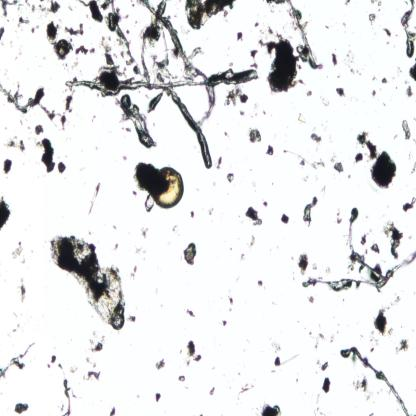Background material: (53, 229, 125, 337), (260, 34, 306, 96), (355, 130, 398, 188), (185, 0, 236, 29), (132, 160, 167, 197), (386, 218, 404, 258), (38, 137, 56, 175), (82, 0, 106, 23), (98, 38, 118, 65), (351, 377, 375, 398), (228, 83, 249, 107), (302, 195, 318, 226), (45, 20, 64, 46), (373, 306, 388, 337), (6, 134, 28, 155), (54, 37, 73, 61), (343, 49, 359, 76), (10, 398, 32, 416), (0, 194, 11, 230), (273, 353, 300, 367), (41, 101, 56, 126), (182, 243, 198, 266), (296, 251, 310, 276), (88, 333, 106, 352), (88, 182, 99, 212), (62, 91, 75, 116), (12, 237, 26, 260), (246, 205, 262, 225), (314, 356, 330, 375), (0, 0, 18, 16), (313, 330, 327, 350), (260, 403, 281, 416), (236, 381, 252, 398), (66, 21, 84, 35), (402, 194, 416, 212), (248, 127, 261, 146), (143, 194, 156, 213), (333, 160, 348, 176), (402, 115, 412, 139), (313, 157, 327, 173), (321, 376, 333, 394), (394, 338, 408, 353), (84, 371, 102, 382), (309, 128, 323, 142), (49, 0, 63, 14), (19, 276, 26, 303), (186, 339, 196, 357), (2, 161, 14, 176), (265, 141, 275, 158), (248, 47, 260, 61), (388, 294, 399, 309), (371, 241, 382, 255), (360, 232, 370, 247), (57, 160, 67, 175), (40, 5, 52, 17), (18, 15, 30, 27), (334, 86, 347, 97), (369, 331, 379, 345), (354, 152, 364, 166), (255, 277, 266, 289), (185, 308, 196, 320), (156, 357, 166, 370), (216, 153, 224, 169), (154, 388, 162, 404), (409, 63, 416, 81), (298, 111, 307, 125), (107, 405, 118, 416), (330, 51, 338, 66), (137, 226, 149, 236), (267, 0, 284, 7), (321, 95, 330, 108), (236, 30, 244, 44), (382, 27, 392, 38), (280, 214, 291, 224), (404, 85, 414, 96), (336, 207, 342, 225), (60, 114, 67, 129), (299, 157, 307, 170), (250, 231, 256, 248), (0, 26, 6, 43), (272, 342, 282, 352), (77, 44, 87, 54), (369, 13, 377, 25), (130, 265, 137, 278), (314, 407, 324, 416), (31, 22, 39, 33), (35, 124, 42, 136), (177, 374, 186, 383), (194, 353, 203, 362), (238, 108, 247, 116), (122, 126, 130, 135), (127, 314, 136, 322), (320, 183, 326, 195), (227, 173, 236, 181), (134, 247, 143, 255), (267, 26, 275, 35), (330, 334, 337, 344), (411, 161, 416, 175), (119, 49, 126, 59), (51, 353, 57, 364), (306, 295, 314, 303), (89, 46, 97, 54), (379, 76, 387, 84), (124, 26, 131, 35), (228, 295, 233, 307), (368, 346, 376, 353), (71, 61, 78, 69), (121, 152, 128, 160), (66, 5, 74, 12), (260, 200, 268, 207), (312, 262, 318, 271), (209, 386, 215, 395), (376, 0, 383, 7), (208, 207, 215, 214), (41, 54, 47, 62), (397, 66, 403, 74), (325, 265, 330, 274), (315, 393, 319, 404), (221, 320, 227, 327), (344, 0, 351, 6), (325, 23, 331, 30), (254, 21, 260, 28), (305, 90, 312, 96), (341, 22, 347, 29), (389, 327, 394, 335), (32, 5, 37, 13), (186, 358, 191, 366), (92, 114, 96, 123), (131, 191, 138, 196), (371, 89, 376, 96), (190, 210, 194, 218), (125, 12, 129, 20), (240, 253, 244, 261), (174, 224, 178, 232), (93, 360, 97, 368), (228, 61, 234, 66), (252, 182, 258, 187), (336, 75, 342, 80), (26, 1, 31, 7), (371, 76, 376, 82), (86, 358, 91, 364), (408, 233, 413, 239), (309, 329, 313, 336), (18, 3, 22, 10), (228, 306, 232, 312), (406, 80, 410, 86), (114, 244, 118, 250), (10, 40, 13, 48), (47, 364, 51, 369), (16, 55, 20, 60), (85, 13, 89, 18), (371, 0, 375, 5), (386, 40, 390, 45), (224, 132, 228, 136), (12, 328, 16, 332), (237, 372, 241, 376), (336, 330, 340, 334), (290, 256, 294, 260), (134, 20, 138, 24), (263, 110, 266, 115), (64, 62, 67, 67), (272, 369, 275, 374), (132, 2, 135, 6), (40, 0, 44, 3), (20, 120, 22, 126), (396, 34, 399, 38), (296, 378, 298, 383), (180, 349, 182, 354), (414, 292, 416, 294)
Cellulose filter fibre: (64, 64, 258, 94), (341, 345, 411, 416), (302, 249, 416, 291), (145, 0, 204, 80), (168, 87, 212, 171), (343, 210, 383, 276), (284, 0, 320, 71), (105, 0, 137, 73), (118, 95, 158, 146), (0, 80, 42, 117), (0, 343, 37, 382), (402, 0, 416, 58), (57, 364, 72, 416)
